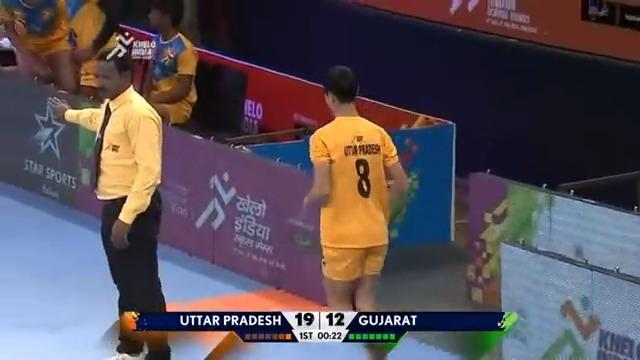Player: (47, 32, 171, 358), (302, 64, 409, 358)
